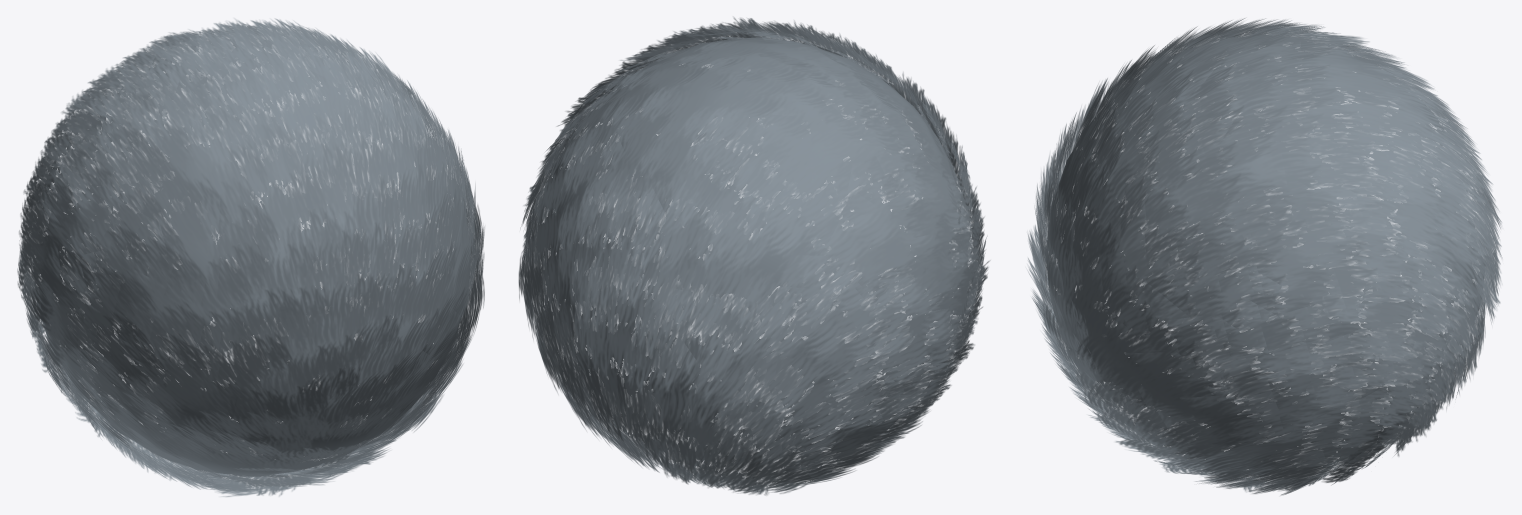
Rendered from FlurPlane2.glb.
3 renders of one model, left to right at view 1: azimuth 30°, elevation 25°; view 2: azimuth 150°, elevation 25°; view 3: azimuth 270°, elevation 25°, orthographic.
Visible parts, largest first — view 1: Cube, Plane.458, Plane.082, Plane.085, Plane.419, Plane.455, Plane.109, Plane.457, Plane.421, Plane.174, Plane.010, Plane.481 (+201 smaller); view 2: Cube, Plane.130, Plane.142, Plane.126, Plane.155, Plane.143, Plane.201, Plane.208, Plane.127, Plane.148, Plane.072, Plane.105 (+194 smaller); view 3: Cube, Plane.275, Plane.151, Plane.334, Plane.290, Plane.265, Plane.302, Plane.332, Plane.333, Plane.276, Plane.287, Plane.277 (+205 smaller).
Boxes of the visible parts, x1,y1,x2,y2 form: Cube: (32, 40, 470, 476); Plane.458: (186, 255, 255, 323); Plane.082: (144, 247, 211, 316); Plane.085: (149, 191, 216, 259); Plane.419: (259, 240, 321, 303); Plane.455: (245, 177, 309, 244); Plane.109: (201, 140, 269, 207); Plane.457: (196, 175, 261, 247); Plane.421: (281, 205, 343, 271); Plane.174: (239, 135, 303, 206); Plane.010: (126, 232, 187, 307); Plane.481: (203, 111, 267, 181); Cube: (537, 37, 971, 466); Plane.130: (725, 269, 800, 337); Plane.142: (686, 246, 758, 311); Plane.126: (730, 339, 806, 403); Plane.155: (646, 243, 711, 306); Plane.143: (660, 269, 732, 334); Plane.201: (752, 336, 829, 398); Plane.208: (700, 182, 772, 242); Plane.127: (689, 347, 763, 411); Plane.148: (641, 373, 698, 432); Plane.072: (834, 185, 899, 251); Plane.105: (810, 338, 877, 399); Cube: (1046, 35, 1485, 474); Plane.275: (1281, 265, 1341, 329); Plane.151: (1258, 140, 1321, 195); Plane.334: (1167, 168, 1230, 234); Plane.290: (1204, 267, 1275, 332); Plane.265: (1281, 193, 1344, 254); Plane.302: (1143, 263, 1214, 329); Plane.332: (1203, 166, 1270, 230); Plane.333: (1181, 149, 1245, 213); Plane.276: (1236, 258, 1299, 321); Plane.287: (1227, 290, 1299, 351); Plane.277: (1239, 188, 1307, 251).
Bounding box in the file's own units: 1.76 × 1.83 × 1.81.
Materials: 1 (1 with a texture image).
